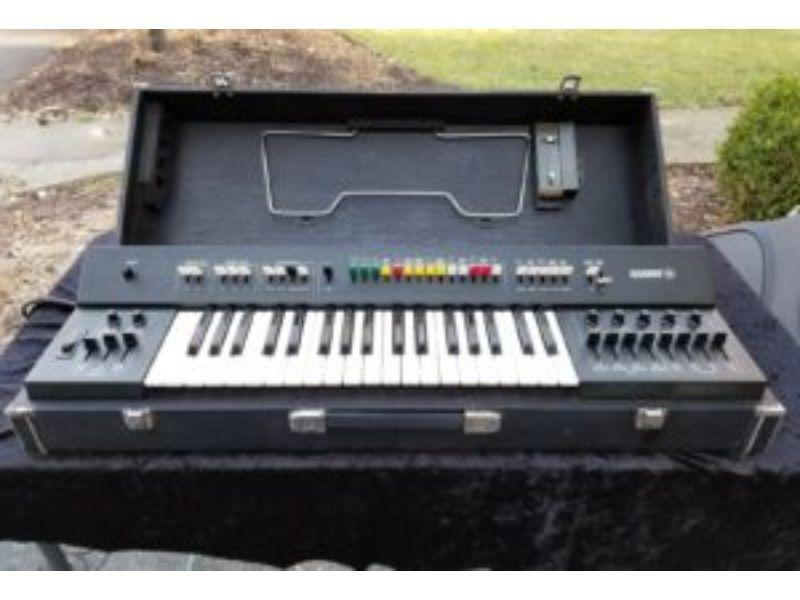synthesizer: (28, 244, 768, 401)
